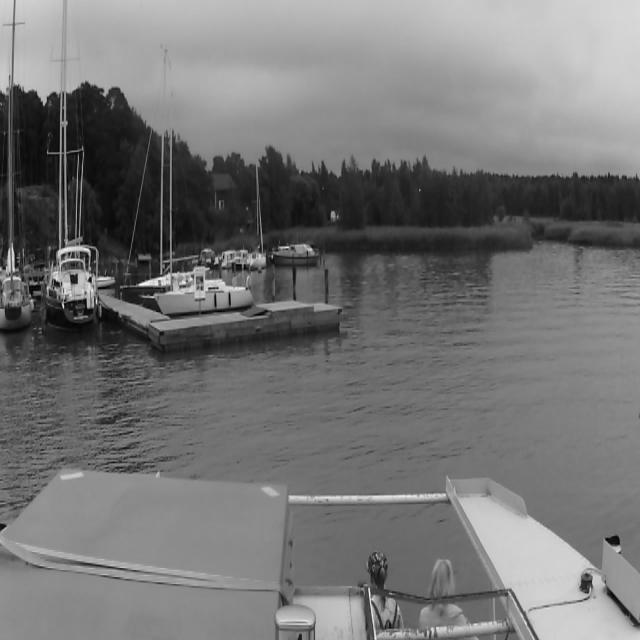ship: (155, 49, 252, 312), (43, 0, 104, 328), (0, 0, 35, 324), (157, 274, 255, 308), (249, 162, 269, 265), (276, 244, 320, 266), (198, 249, 216, 268), (216, 250, 232, 268), (233, 249, 246, 268)
